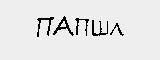А: (52, 15, 76, 35)
Л: (109, 22, 125, 37)
П: (34, 16, 54, 39), (75, 17, 91, 37)
Ш: (92, 18, 111, 37)
